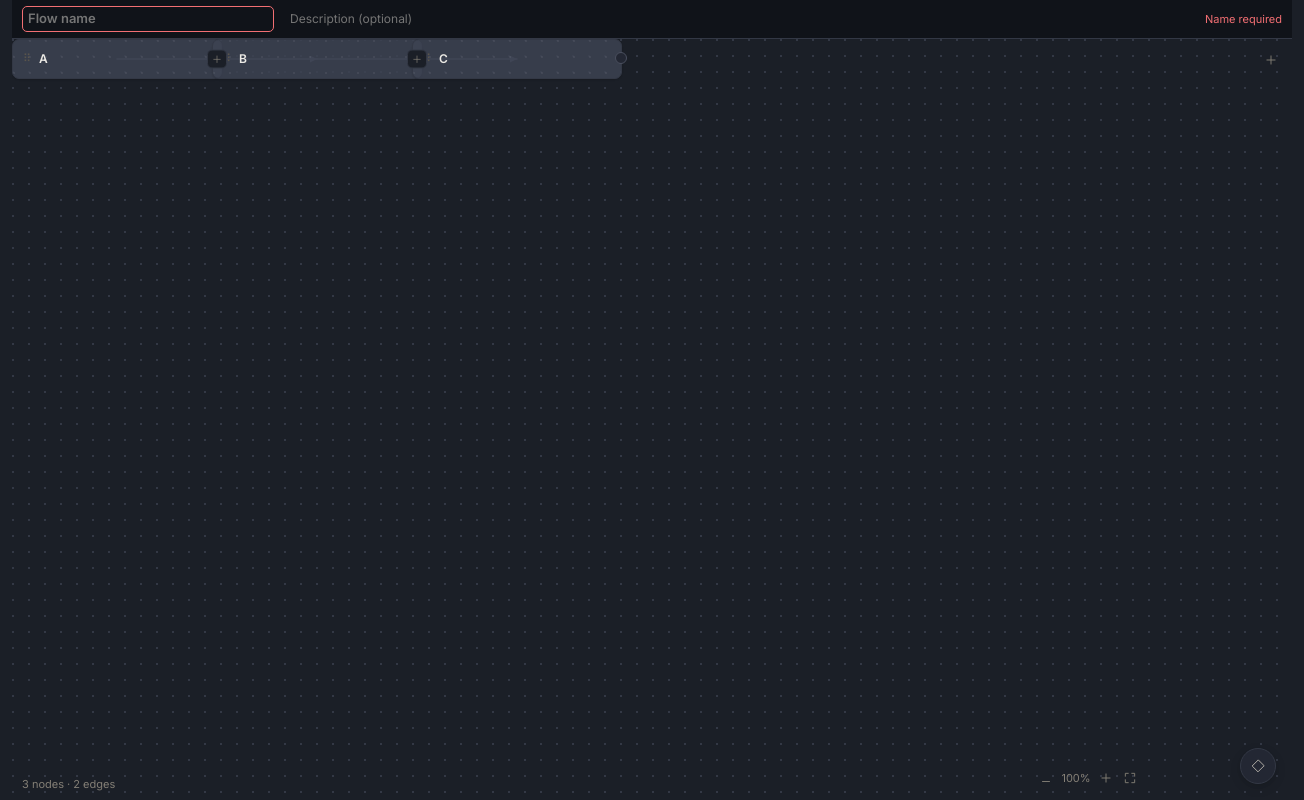
it: node editing (FLO-FR-07, FLO-FR-09, FLO-FR-15, FLO-FR-26 / FLO-FR-08) › removes a node together with both of its incident edges
Press the mouse on the element with test id "flow-node-n2" at {"x": 317, "y": 58}, box x1=212 y1=38 x2=422 y2=78
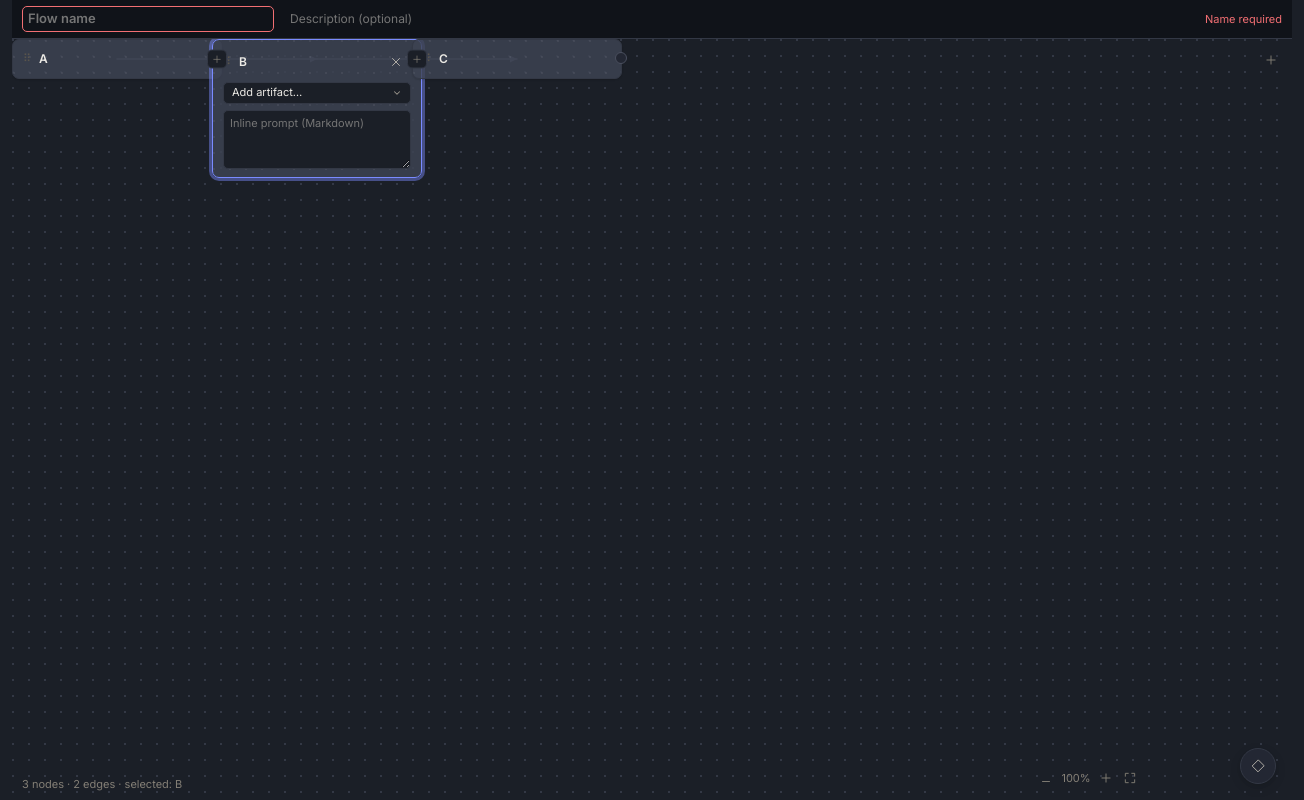
Click the button named "Remove node B". click: {"x": 396, "y": 62}
box: x1=381 y1=48 x2=411 y2=76
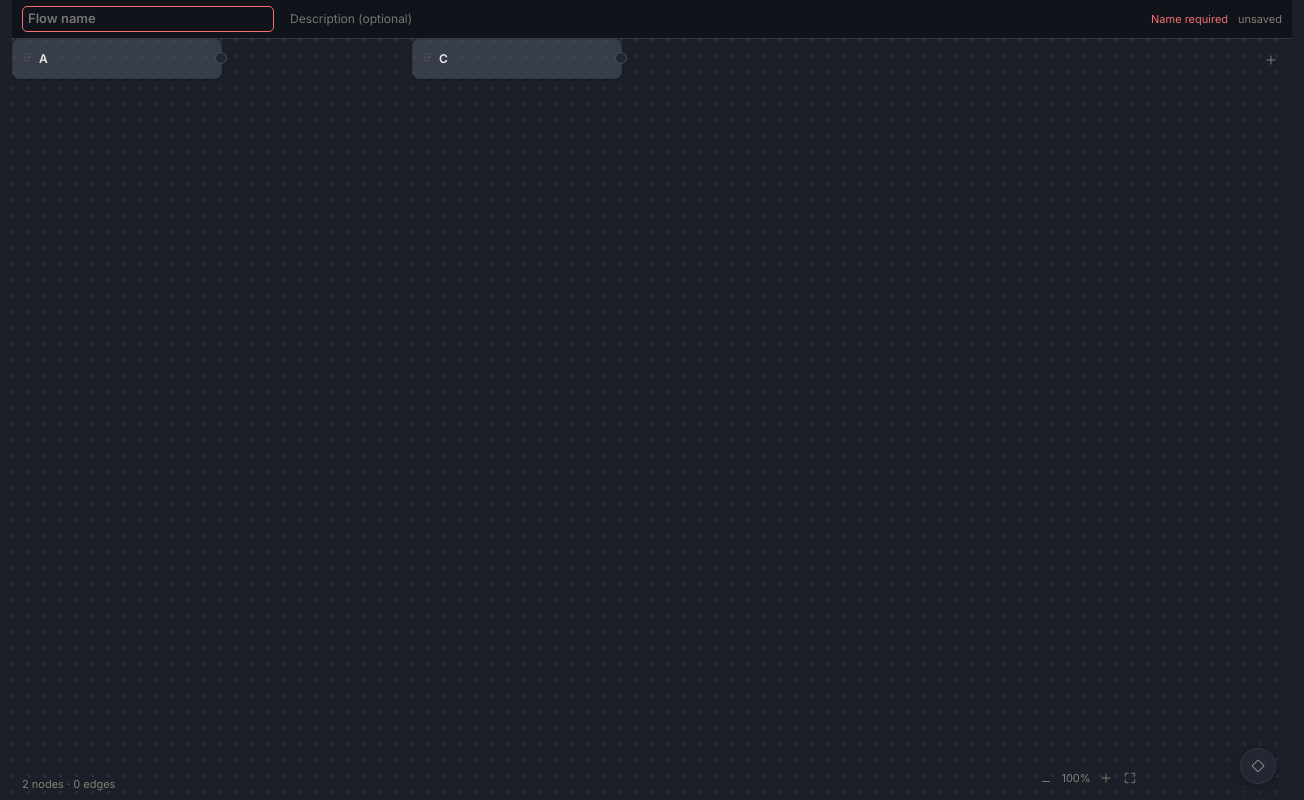
Now the element with test id "flow-node-n2" is gone
